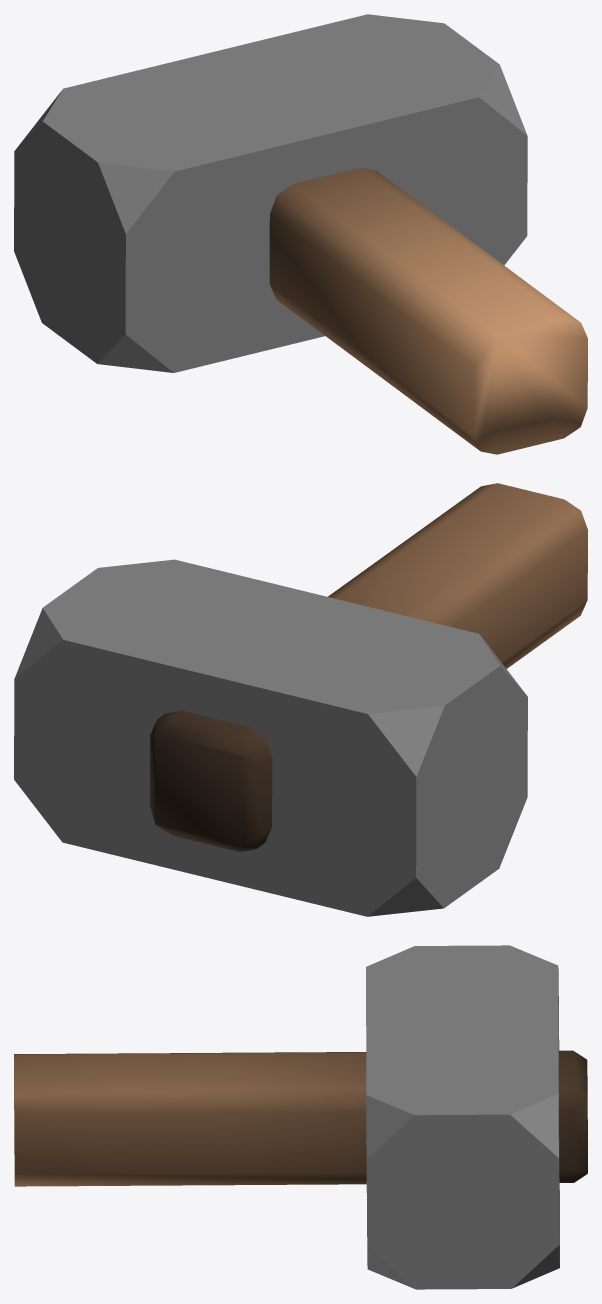
Rendered from marreta1.fbx.
3 renders of one model, top to bottom at view 1: azimuth 30°, elevation 25°; view 2: azimuth 150°, elevation 25°; view 3: azimuth 270°, elevation 25°, orthographic. The views are drawn at different scales.
Visible parts, largest first — view 1: marreta; view 2: marreta; view 3: marreta.
Boxes of the visible parts, x1,y1,x2,y2 form: marreta: (14,14,587,454); marreta: (14,483,587,916); marreta: (14,945,587,1289).
Size of the model in its own units: 46.76 by 22.62 by 67.03.
